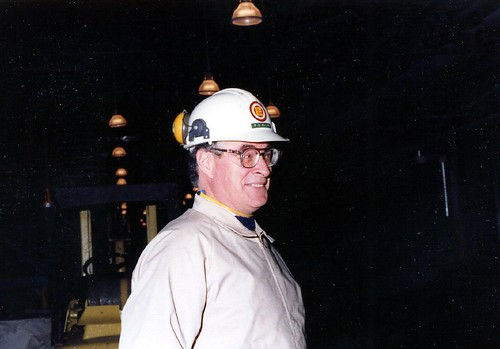person hardhat: (183, 88, 291, 211)
